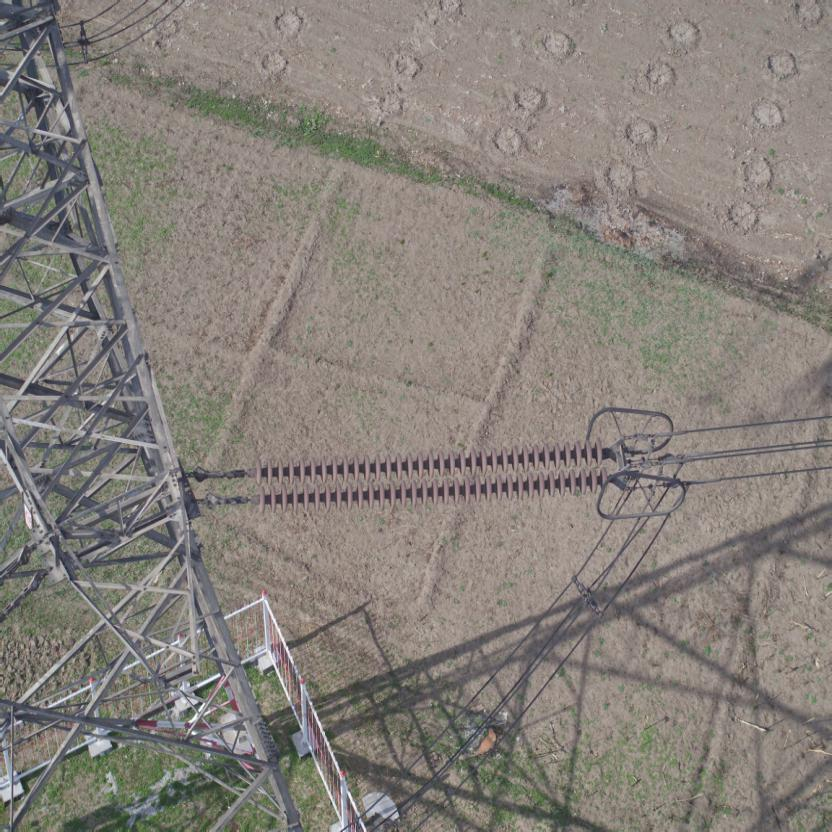insulator: (218, 432, 620, 514)
